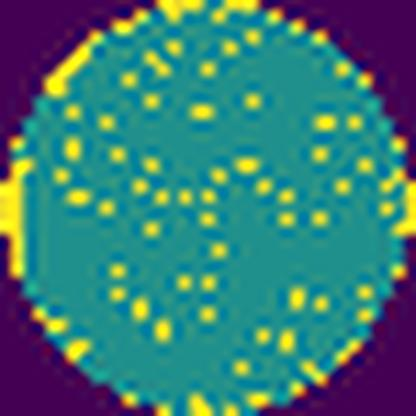Edge-Loc: (36, 27, 106, 102), (0, 151, 31, 282), (389, 178, 416, 243), (153, 0, 205, 27), (183, 391, 215, 416)
